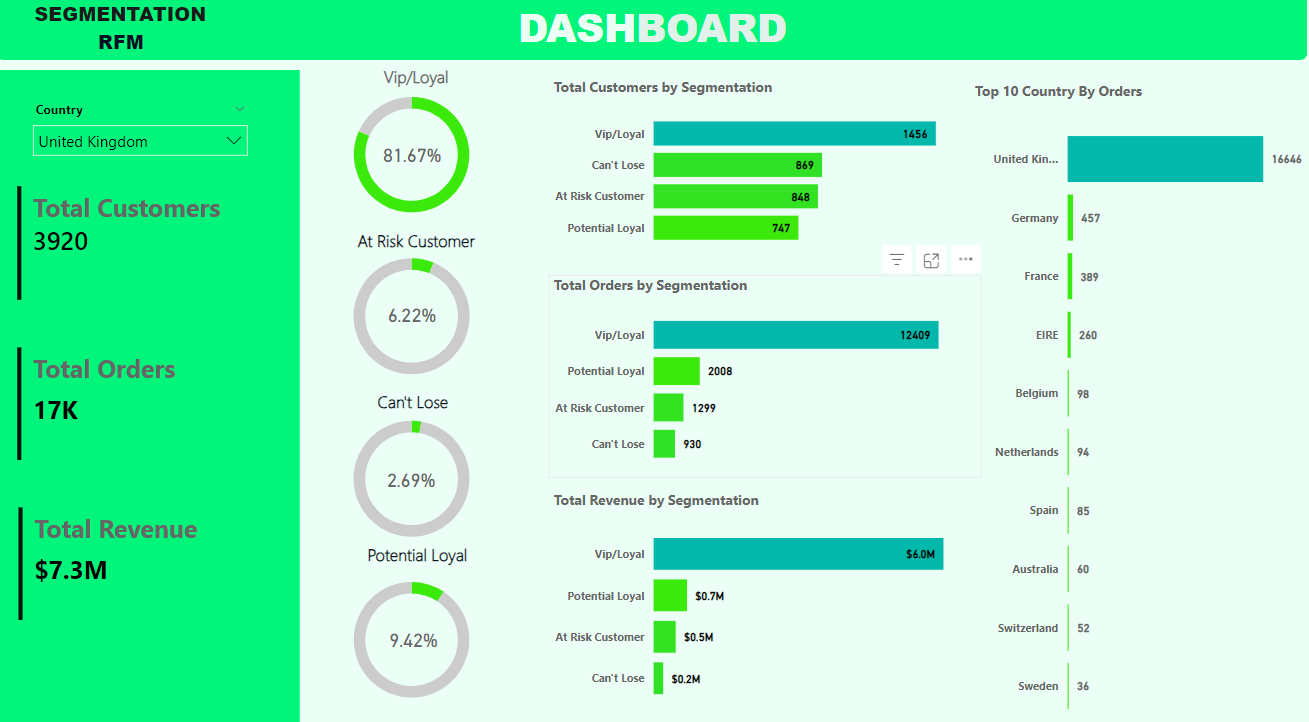

This screenshot's page, from the dashboard's own definition file:
{"tool":"powerbi","page":{"name":"main","canvas":[1280,720],"ordinal":0},"visuals":[{"type":"shape","box":[4.8,0,1269.8,62.9],"z":0},{"type":"donutChart","fields":{"Y":["Measures (2).% vip_Loyal","Measures (2).Remaining_vip_customer"]},"box":[307.5,79.9,200,149.8],"z":0,"group":"g1"},{"type":"donutChart","fields":{"Y":["Measures (2).% At Risk","Measures (2).Remaining_at_tisk"]},"box":[307.5,236.4,200,150.5],"z":0,"group":"g2"},{"type":"donutChart","fields":{"Y":["Measures (2).% can't lose","Measures (2).Remaining_cant_lose"]},"box":[307.5,392.8,200,150.5],"z":0,"group":"g3"},{"type":"donutChart","fields":{"Y":["Measures (2).% Potential Loyal","Measures (2).Remaining_Potential Loyal"]},"box":[307.5,549.3,200,150],"z":0,"group":"g4"},{"type":"textbox","box":[451.5,0,377.7,66.6],"z":1000},{"type":"card","fields":{"Values":["Measures (2).% vip_Loyal"]},"box":[373.6,134.3,67.9,42.2],"z":1000,"group":"g1"},{"type":"card","fields":{"Values":["Measures (2).% At Risk"]},"box":[365.4,288.5,84.2,46.3],"z":1000,"group":"g2"},{"type":"card","fields":{"Values":["Measures (2).% can't lose"]},"box":[367.4,448.7,80.2,42.7],"z":1000,"group":"g3"},{"type":"card","fields":{"Values":["Measures (2).% Potential Loyal"]},"box":[369.6,604.6,80,40.4],"z":1000,"group":"g4"},{"type":"shape","box":[4.8,72.6,294.2,639.1],"z":2000},{"type":"textbox","box":[4.8,0,240.9,39.9],"z":3000},{"type":"textbox","box":[52.1,26.6,147.7,39.9],"z":4000},{"type":"cardVisual","fields":{"Data":["Measures (2).Total Customers"]},"box":[21.1,180.5,246.6,120],"z":5000},{"type":"cardVisual","fields":{"Data":["Measures (2).Total Revenue"]},"box":[21.8,491.5,248.2,119.8],"z":6000},{"type":"cardVisual","fields":{"Data":["Measures (2).Total Orders"]},"box":[20.6,336,246.9,119.8],"z":7000},{"type":"slicer","fields":{"Values":["dataset.Country"]},"box":[30.9,98.3,228.2,67.5],"z":8000},{"type":"group","id":"g1","title":"Group 1","box":[307.5,79.9,200,150],"z":9000},{"type":"group","id":"g2","title":"Group 2","box":[307.5,236.4,200,150],"z":10000},{"type":"group","id":"g3","title":"Group 3","box":[307.5,392.8,200,150],"z":11000},{"type":"group","id":"g4","title":"Group 4","box":[307.5,549.3,200,150],"z":12000},{"type":"textbox","box":[346.2,62.9,122.3,35.1],"z":13000},{"type":"textbox","box":[283.3,203.4,248.2,52.1],"z":14000},{"type":"textbox","box":[525.1,223.8,247.9,72.4],"z":15000},{"type":"textbox","box":[336.5,377.7,144,38.7],"z":16000},{"type":"textbox","box":[323.2,507.2,170.7,50.8],"z":17000},{"type":"clusteredBarChart","fields":{"Y":["Measures (2).Total Customers"],"Category":["dataset.Segmentation"]},"box":[539.9,79.9,418.8,175.5],"z":18000},{"type":"clusteredBarChart","fields":{"Category":["dataset.Segmentation"],"Y":["Measures (2).Total Orders"]},"box":[539.9,271.2,420,197.3],"z":19000},{"type":"clusteredBarChart","fields":{"Category":["dataset.Segmentation"],"Y":["Measures (2).Total Revenue"]},"box":[539.9,479.4,420,220.3],"z":20000},{"type":"barChart","title":"Top 10 Country By Orders","fields":{"Category":["dataset.Country"],"Y":["Measures (2).Total Orders"]},"box":[947.8,83.5,326.8,636.7],"z":21000}]}

Visuals, with their boxes in screenshot pixels (x1, y1, x2, y2), scaled from the page's 1280x720 canvas onto the 1309x722 screenshot:
shape: (5, 0, 1303, 63)
donutChart - Measures (2).% vip_Loyal x Measures (2).Remaining_vip_customer: (314, 80, 519, 230)
donutChart - Measures (2).% At Risk x Measures (2).Remaining_at_tisk: (314, 237, 519, 388)
donutChart - Measures (2).% can't lose x Measures (2).Remaining_cant_lose: (314, 394, 519, 545)
donutChart - Measures (2).% Potential Loyal x Measures (2).Remaining_Potential Loyal: (314, 551, 519, 701)
textbox: (462, 0, 848, 67)
card - Measures (2).% vip_Loyal: (382, 135, 452, 177)
card - Measures (2).% At Risk: (374, 289, 460, 336)
card - Measures (2).% can't lose: (376, 450, 458, 493)
card - Measures (2).% Potential Loyal: (378, 606, 460, 647)
shape: (5, 73, 306, 714)
textbox: (5, 0, 251, 40)
textbox: (53, 27, 204, 67)
cardVisual - Measures (2).Total Customers: (22, 181, 274, 301)
cardVisual - Measures (2).Total Revenue: (22, 493, 276, 613)
cardVisual - Measures (2).Total Orders: (21, 337, 274, 457)
slicer - dataset.Country: (32, 99, 265, 166)
"Group 1" group: (314, 80, 519, 231)
"Group 2" group: (314, 237, 519, 387)
"Group 3" group: (314, 394, 519, 544)
"Group 4" group: (314, 551, 519, 701)
textbox: (354, 63, 479, 98)
textbox: (290, 204, 544, 256)
textbox: (537, 224, 791, 297)
textbox: (344, 379, 491, 418)
textbox: (331, 509, 505, 560)
clusteredBarChart - Measures (2).Total Customers x dataset.Segmentation: (552, 80, 980, 256)
clusteredBarChart - dataset.Segmentation x Measures (2).Total Orders: (552, 272, 982, 470)
clusteredBarChart - dataset.Segmentation x Measures (2).Total Revenue: (552, 481, 982, 702)
"Top 10 Country By Orders" barChart: (969, 84, 1303, 721)
